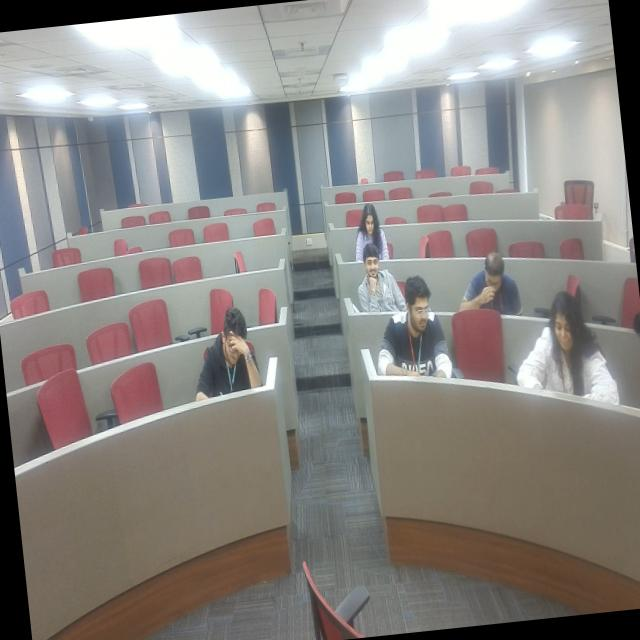non-cheating: (450, 240, 529, 324)
